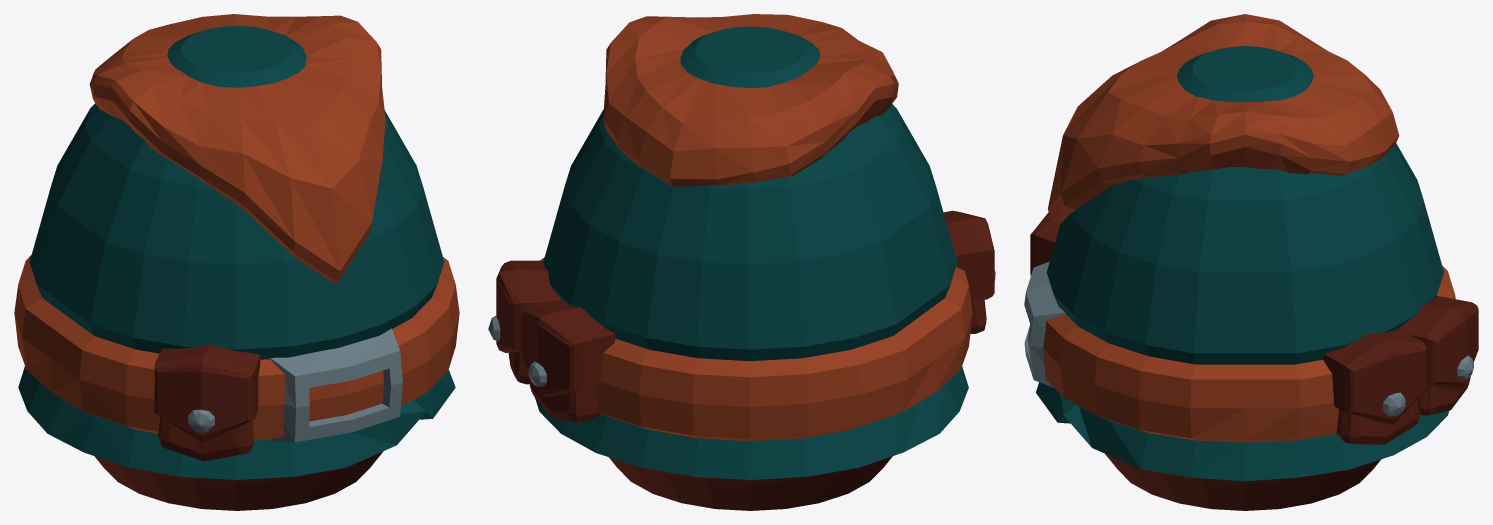
Rendered from character_rogueBody.obj.
3 views of the same model, side by side, from view 1: azimuth 30°, elevation 25°; view 2: azimuth 150°, elevation 25°; view 3: azimuth 270°, elevation 25° (orthographic). The views are drawn at different scales.
Parts seen in each view (by area): view 1: character_rogueBody_Cube.007; view 2: character_rogueBody_Cube.007; view 3: character_rogueBody_Cube.007.
Part boxes in pixels (box(x1,y1,x2,y2)): character_rogueBody_Cube.007: box(14, 14, 459, 510); character_rogueBody_Cube.007: box(488, 14, 995, 510); character_rogueBody_Cube.007: box(1024, 14, 1478, 510).
Bounding box in the file's own units: 0.719 × 0.7287 × 0.7734.
